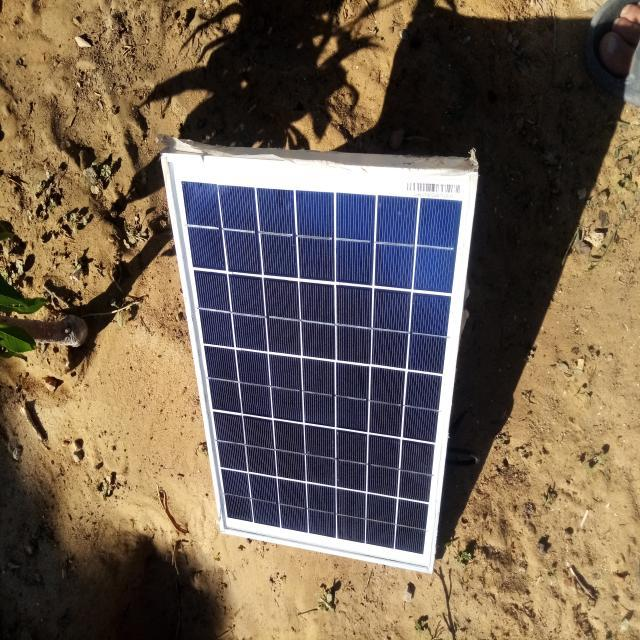no faulty: (164, 155, 478, 571)
